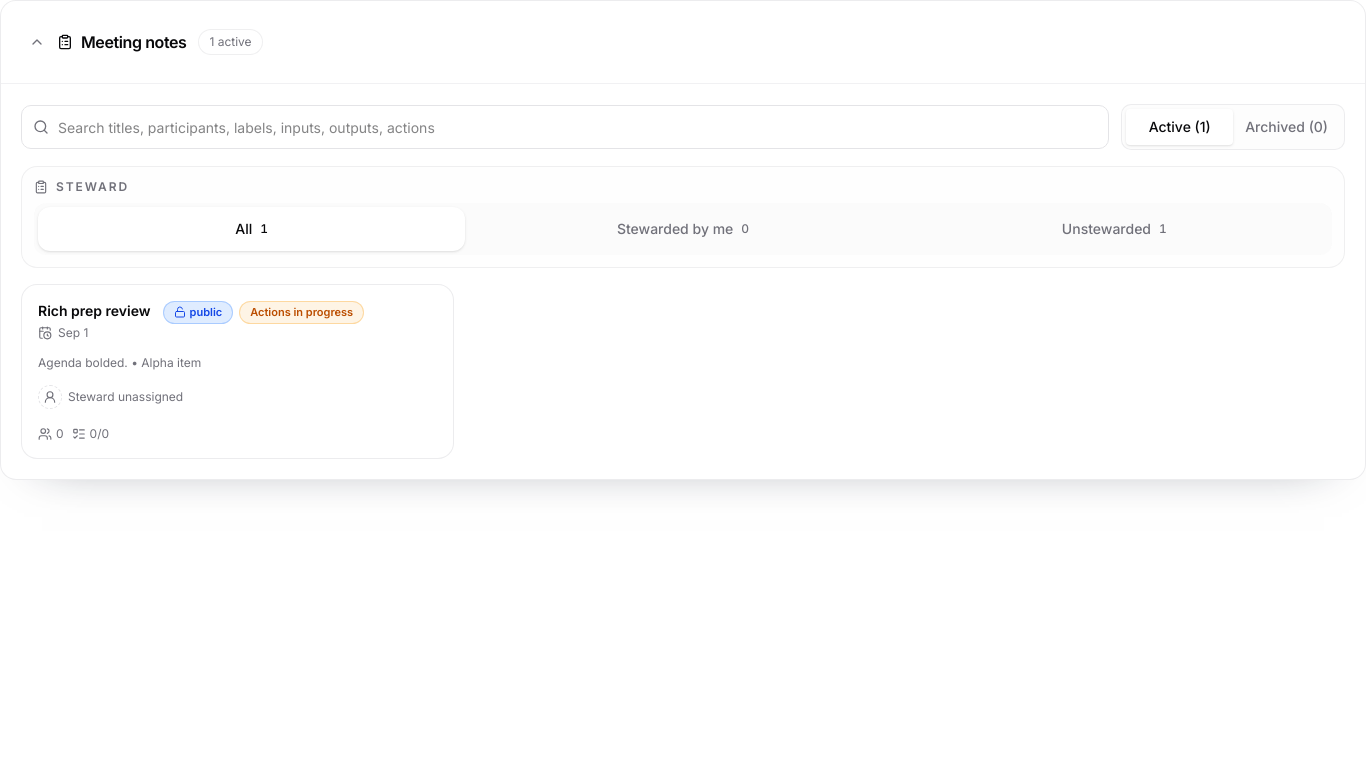
Scenario: project-meeting-notes-panel rich sections › opens a rich note as a viewer with read-only sections and no editors
Click the button that starts with "Rich prep review". click: click(94, 310)
box: [21,284,454,459]
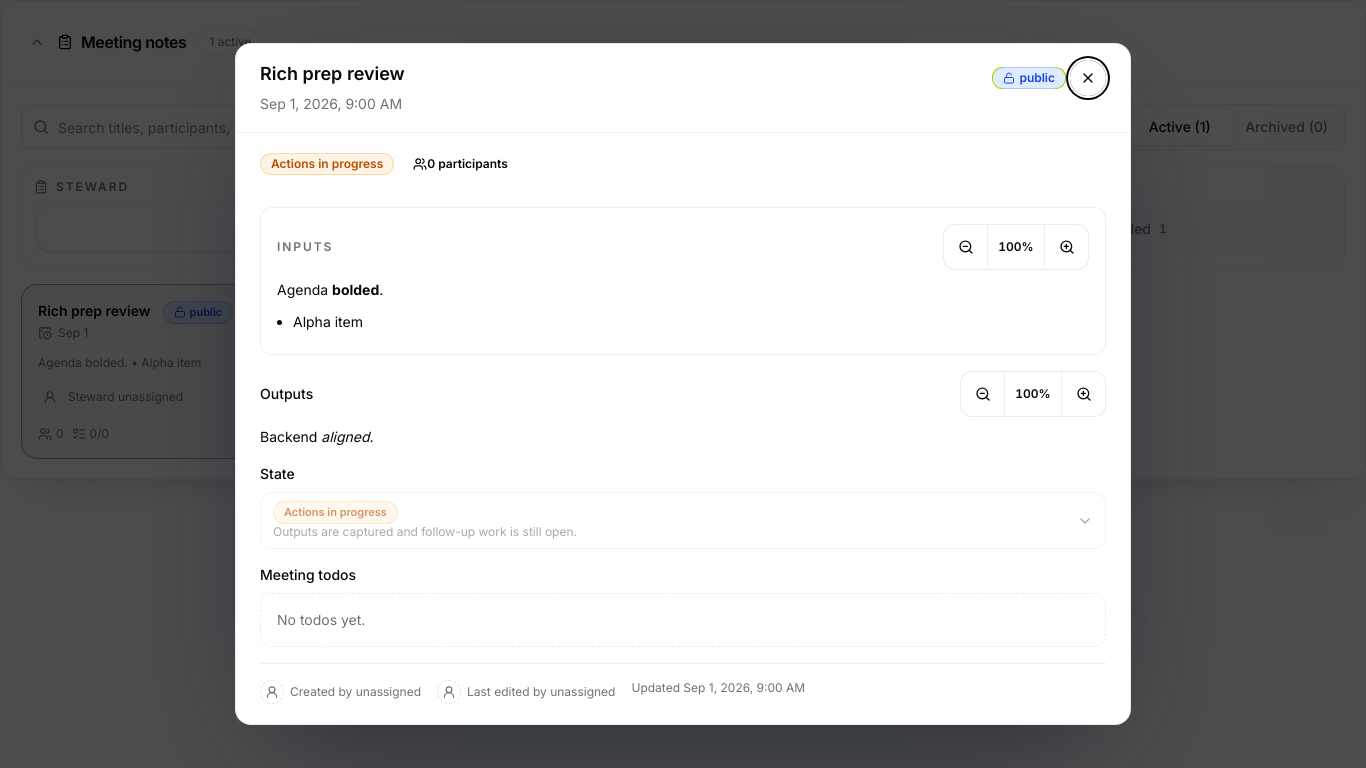
Check: the text "Agenda" is shown, box [38,355,201,370]
Check: the text "Backend" is shown, box [260,428,321,445]
Check: the text "aligned" is shown, box [321,428,370,445]
